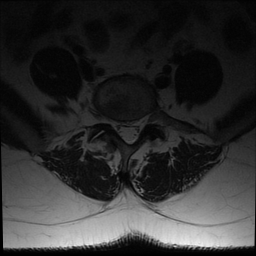CCS_normal: (126, 109, 133, 151)
LFS_normal: (141, 105, 151, 133)
LLS_normal: (133, 108, 141, 144)
RFS_normal: (108, 109, 117, 135)
RLS_normal: (117, 109, 126, 145)
